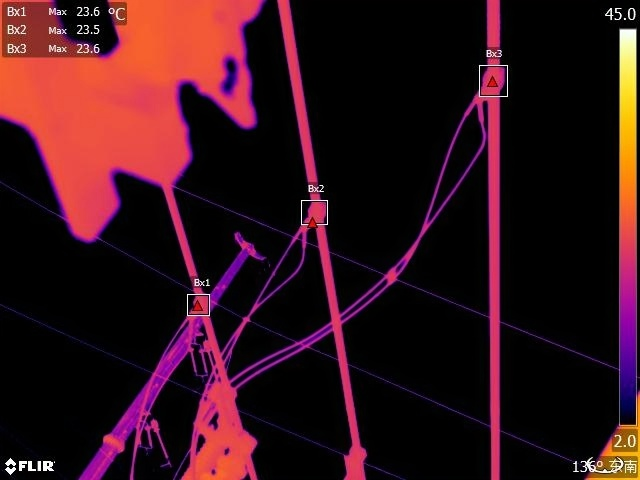clamp: (477, 59, 512, 104), (300, 199, 327, 226), (186, 292, 211, 319)
